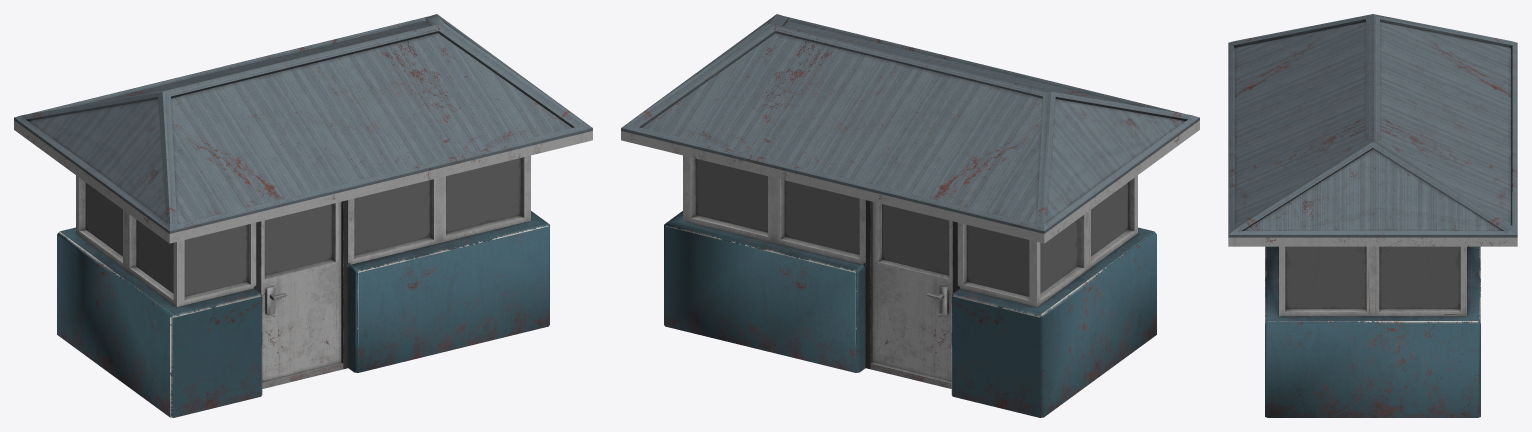
The model's file is DoormanHouse.fbx.
3 views of the same model, side by side, from view 1: azimuth 30°, elevation 25°; view 2: azimuth 150°, elevation 25°; view 3: azimuth 270°, elevation 25° (orthographic). The views are drawn at different scales.
Parts seen in each view (by area): view 1: DoormanHouse; view 2: DoormanHouse; view 3: DoormanHouse.
Boxes of the visible parts, left/top/right/bottom form: DoormanHouse: left=14, top=14, right=592, bottom=417; DoormanHouse: left=621, top=14, right=1199, bottom=417; DoormanHouse: left=1228, top=14, right=1517, bottom=417.
Size of the model in its own units: 4.89 by 3 by 3.11.
